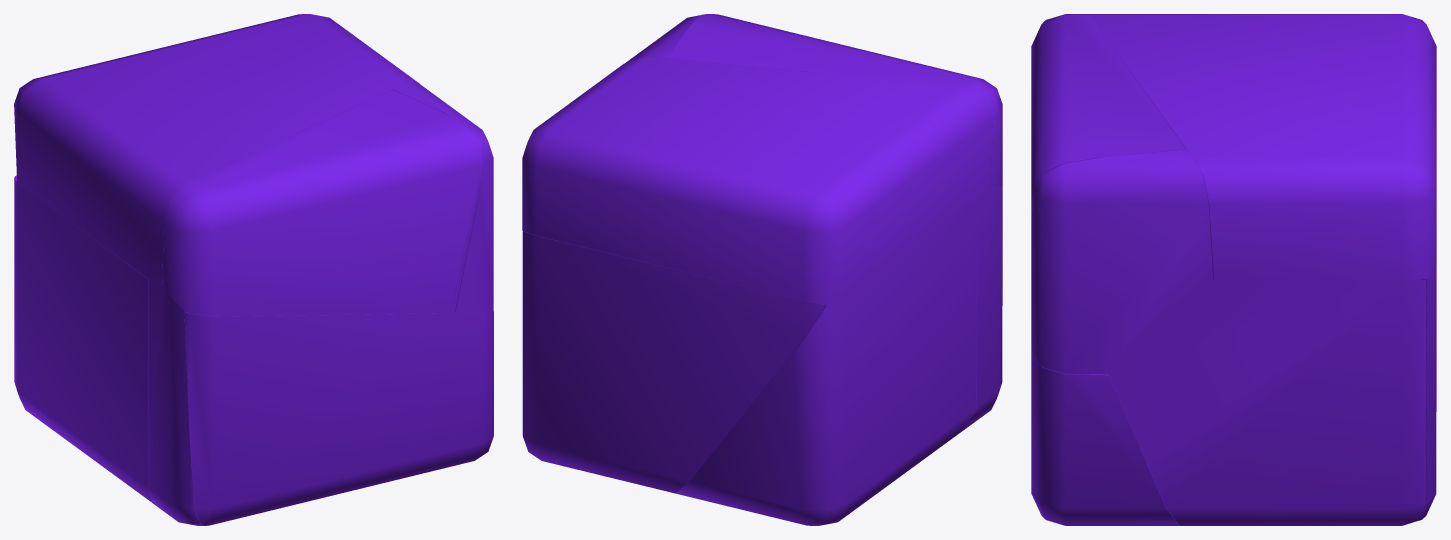
Rendered from kubikRaznieKuski.fbx.
The picture shows the model from 3 angles, left to right: view 1: azimuth 30°, elevation 25°; view 2: azimuth 150°, elevation 25°; view 3: azimuth 270°, elevation 25°; orthographic projection. The views are drawn at different scales.
Parts seen in each view (by area): view 1: kubikBroke.131_cell.010, kubikBroke.131_cell.013, kubikBroke.131_cell.008, kubikBroke.131_cell.014, kubikBroke.131_cell.012, kubikBroke.131_cell.011; view 2: kubikBroke.131_cell.008, kubikBroke.131_cell.009, kubikBroke.131_cell.014, kubikBroke.131_cell.010, kubikBroke.131_cell.012, kubikBroke.131_cell.011; view 3: kubikBroke.131_cell.008, kubikBroke.131_cell.015, kubikBroke.131_cell.011, kubikBroke.131_cell.013, kubikBroke.131_cell.010, kubikBroke.131_cell.009.
Part boxes in pixels (x1,y1,x2,y2): kubikBroke.131_cell.010: (162,90,483,316); kubikBroke.131_cell.013: (184,311,493,525); kubikBroke.131_cell.008: (14,14,419,283); kubikBroke.131_cell.014: (14,177,151,501); kubikBroke.131_cell.012: (148,279,206,525); kubikBroke.131_cell.011: (393,83,493,313); kubikBroke.131_cell.008: (522,57,992,304); kubikBroke.131_cell.009: (523,231,825,493); kubikBroke.131_cell.014: (675,200,976,525); kubikBroke.131_cell.010: (667,14,1002,186); kubikBroke.131_cell.012: (964,184,1002,429); kubikBroke.131_cell.011: (625,15,699,63); kubikBroke.131_cell.008: (1084,14,1436,279); kubikBroke.131_cell.015: (1108,279,1426,525); kubikBroke.131_cell.011: (1031,149,1212,374); kubikBroke.131_cell.013: (1031,351,1179,525); kubikBroke.131_cell.010: (1031,14,1185,218); kubikBroke.131_cell.009: (1420,266,1436,520).
Size of the model in its own units: 103 by 103 by 103.
